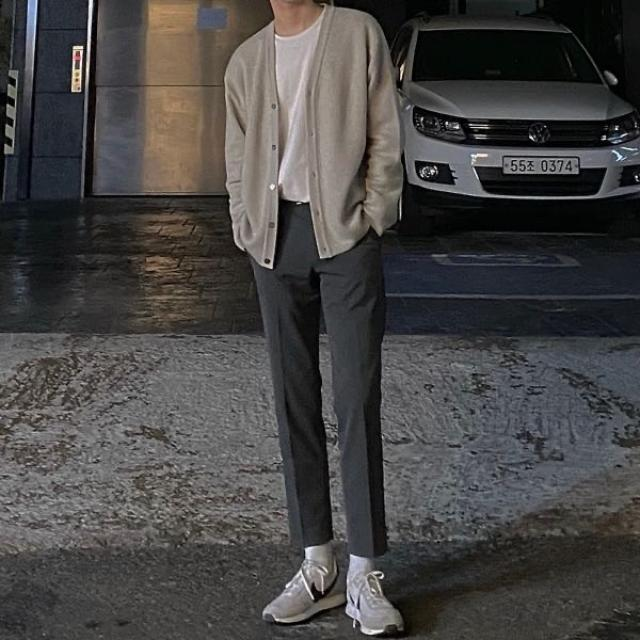cardigan: (224, 7, 402, 268)
slacks: (248, 204, 384, 562)
